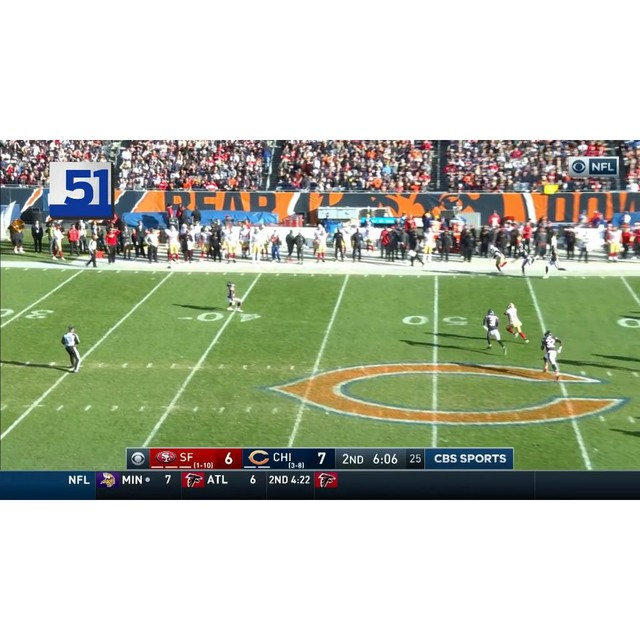american-football-player: (540, 330, 564, 377), (482, 308, 506, 354), (504, 303, 528, 342), (225, 281, 243, 312)
referee: (60, 324, 82, 373)
